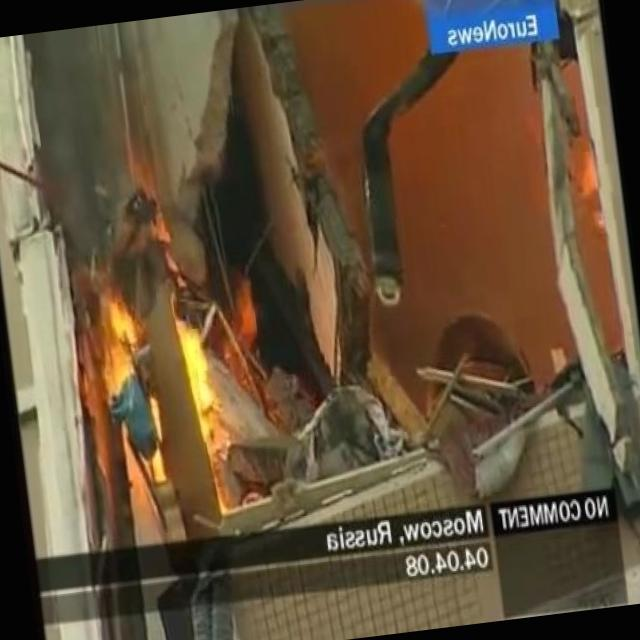fire: (80, 256, 230, 474)
